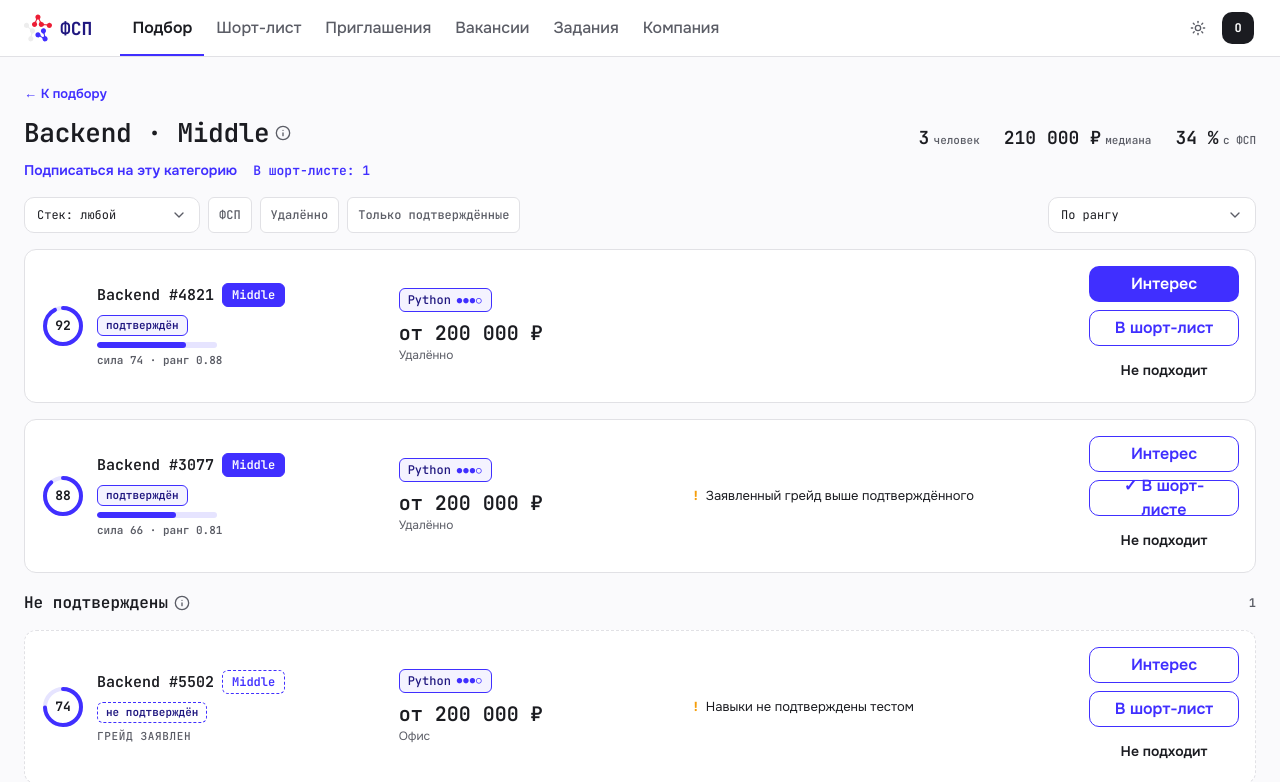
Test: реакции уходят в /recs/feedback, чипсы «Учли» появляются и сбрасываются
Click the button "В шорт-лист" in the row of "92" at (1164, 328), box [1089,310,1239,346]
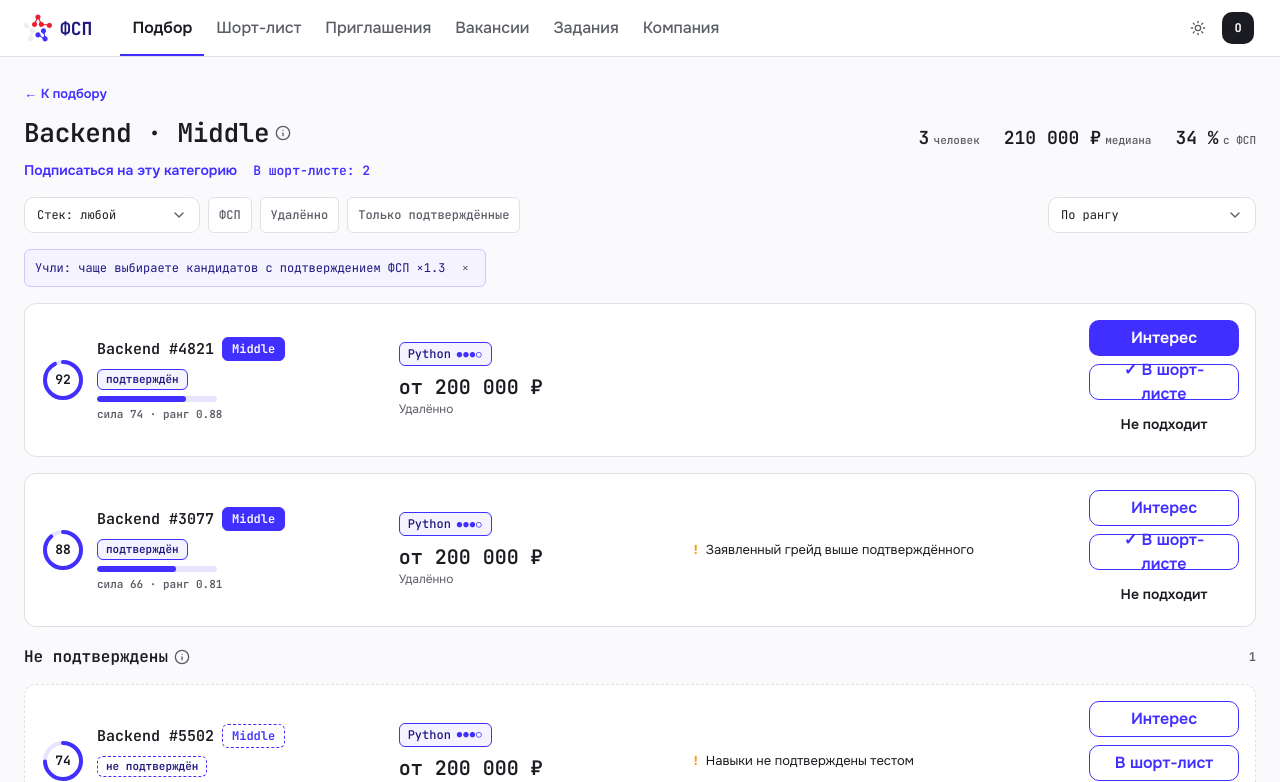
Click the button "Не подходит" in the row of "сила 66 · ранг 0.81" at (1164, 594), box [1089,578,1239,610]
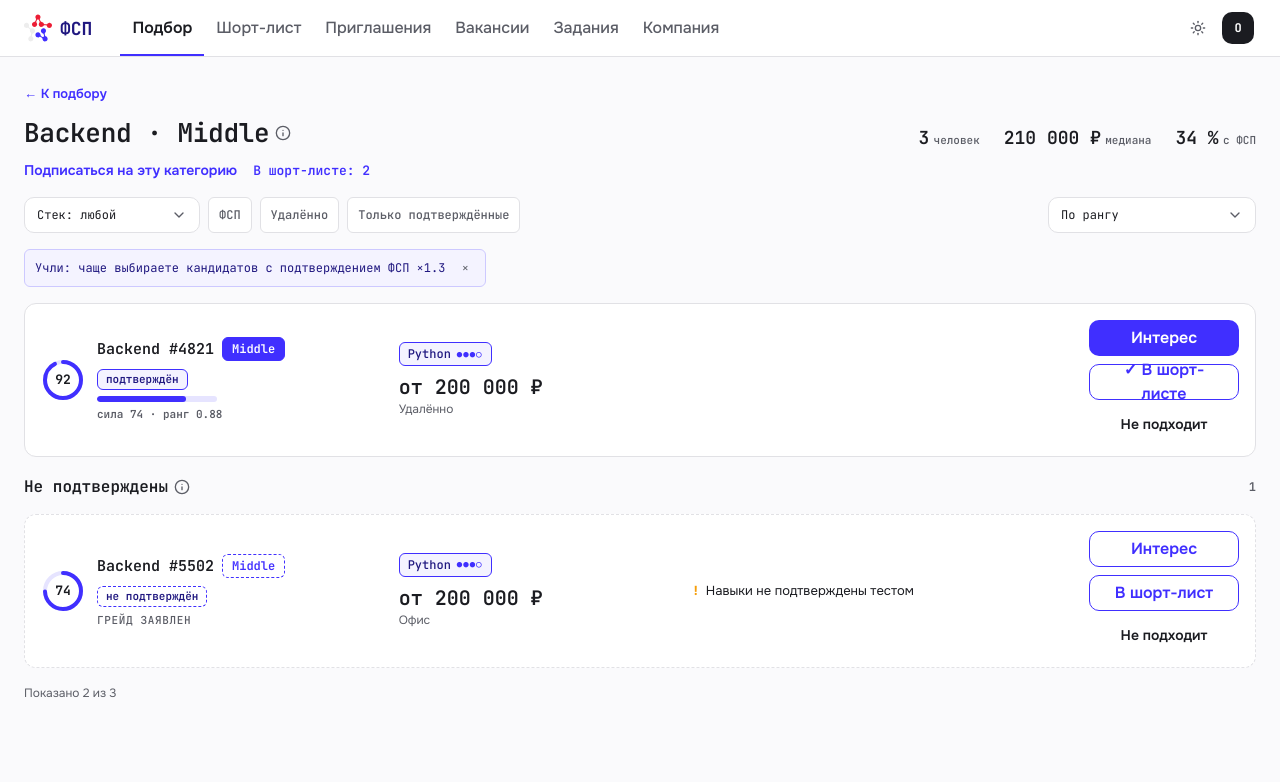
Check: the list "Учли" shows "Учли: чаще выбираете кандидатов с подтверждением ФСП", box [24,249,486,287]
Click the button named "Сбросить подстройку" at (465, 268), box [449,252,481,284]
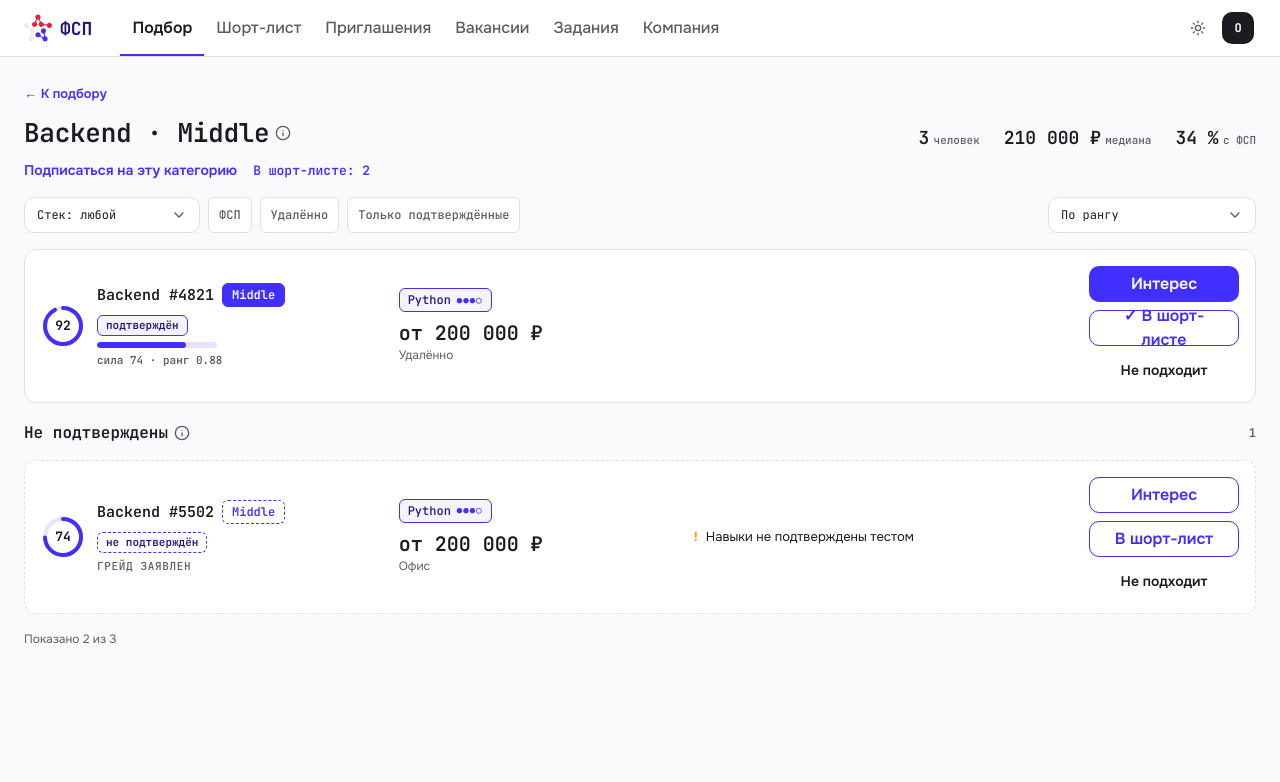
Check: the text "Учли" is gone
